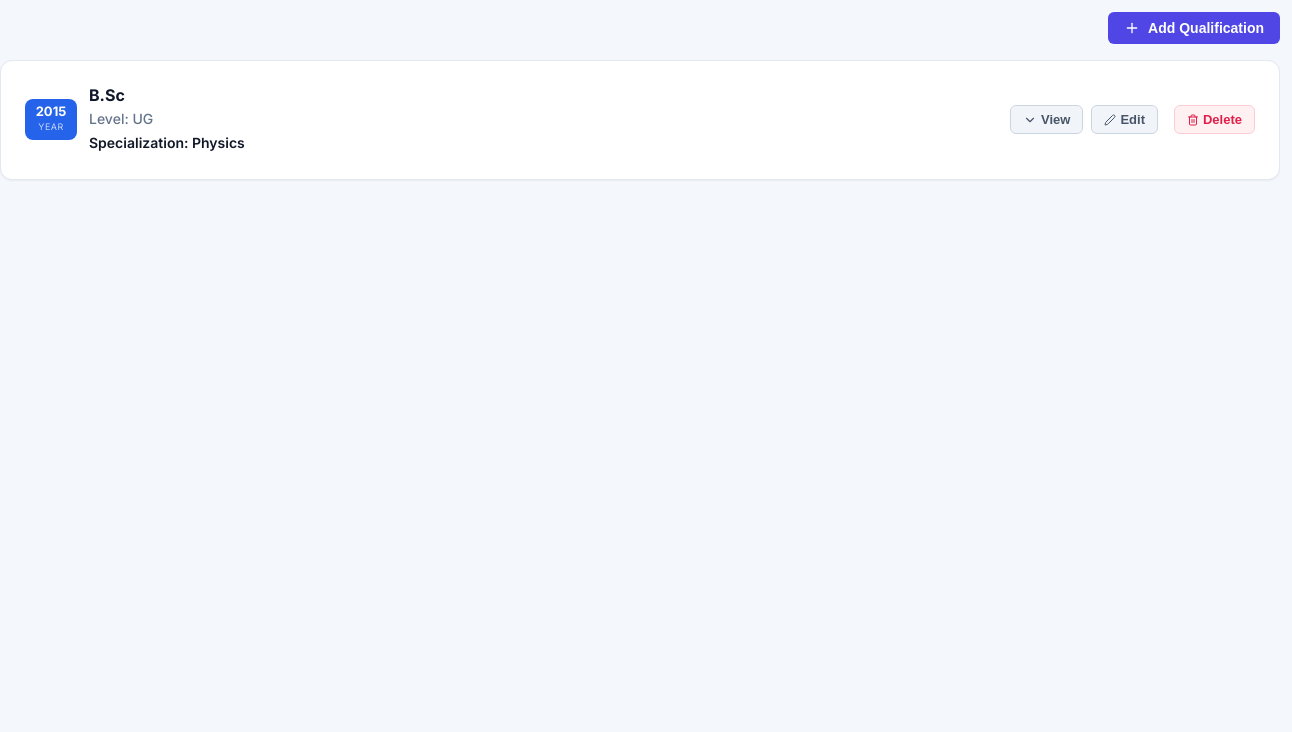
Test: Board / University searchable dropdown › 4: legacy saved values still display when editing
Step 1. Click the button "Edit" → (1125, 120), box [1091,105,1158,134]
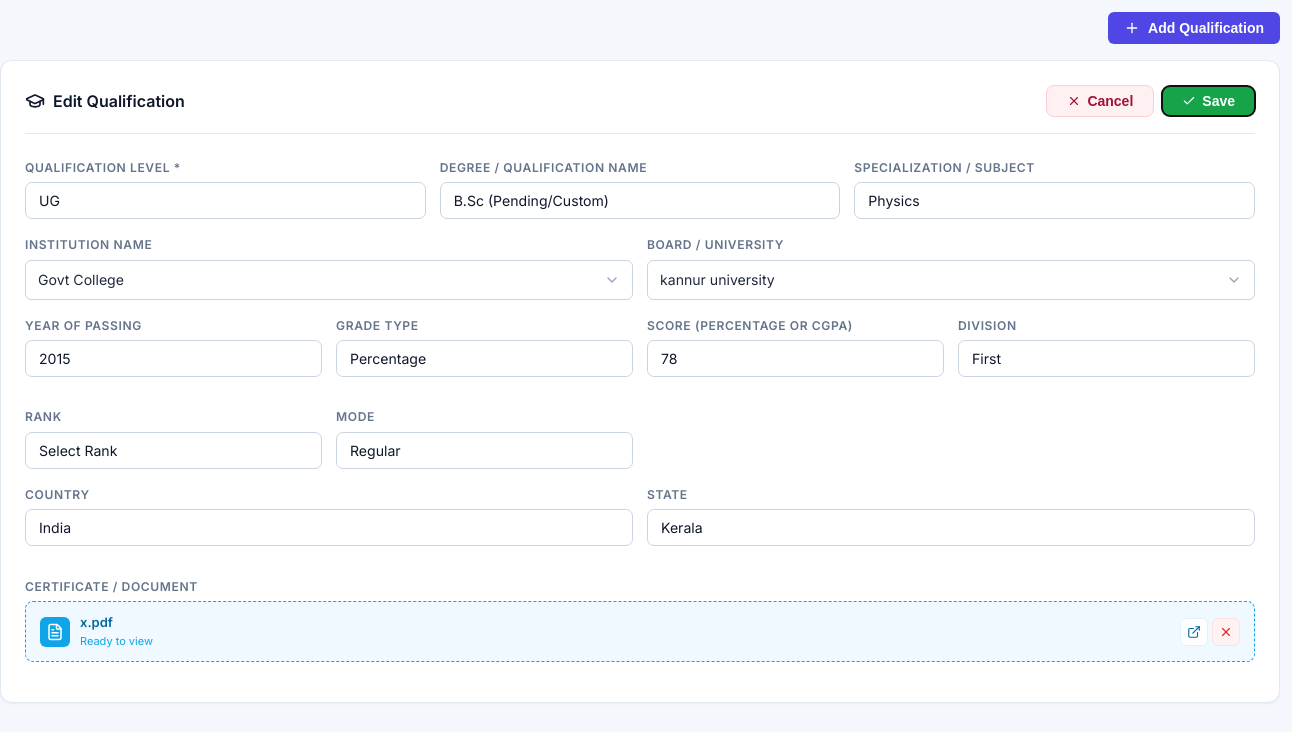
Expected: the dropdown labelled "kannur university" is shown, [647,260,1255,300]
